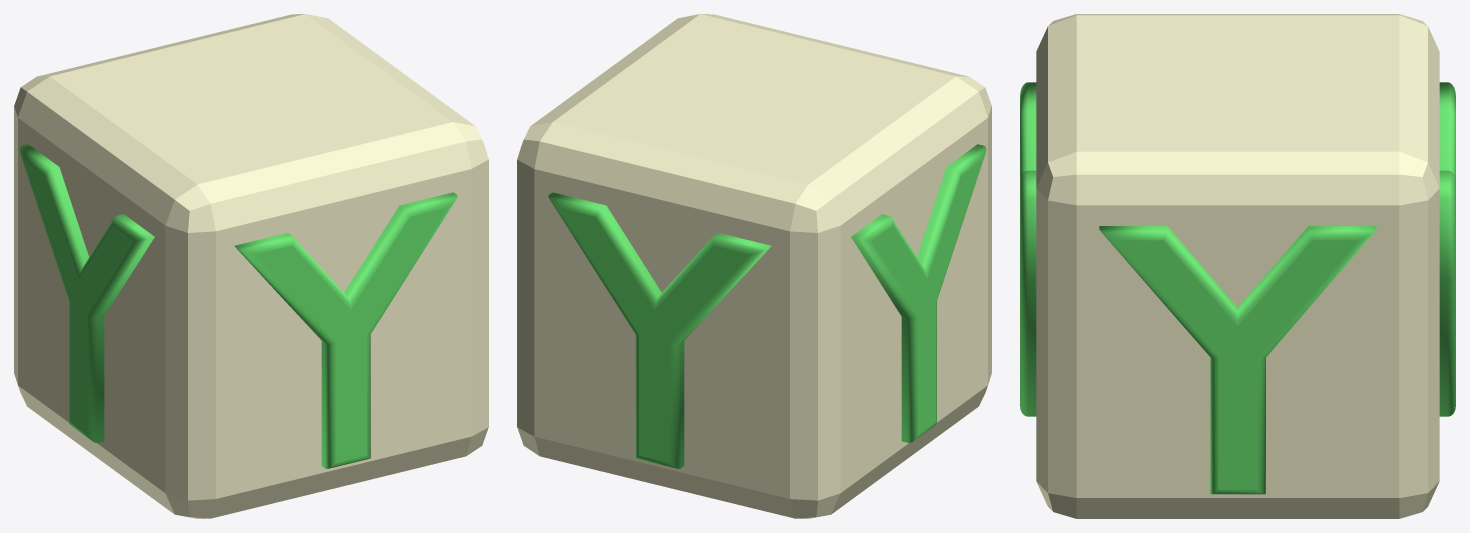
3 renders of one model, left to right at view 1: azimuth 30°, elevation 25°; view 2: azimuth 150°, elevation 25°; view 3: azimuth 270°, elevation 25°, orthographic. The views are drawn at different scales.
Visible parts, largest first — view 1: Y; view 2: Y; view 3: Y.
Part boxes in pixels (x1,y1,x2,y2): Y: (14, 14, 488, 518); Y: (517, 14, 991, 518); Y: (1020, 14, 1455, 518).
Bounding box in the file's own units: 216 × 200 × 216.
